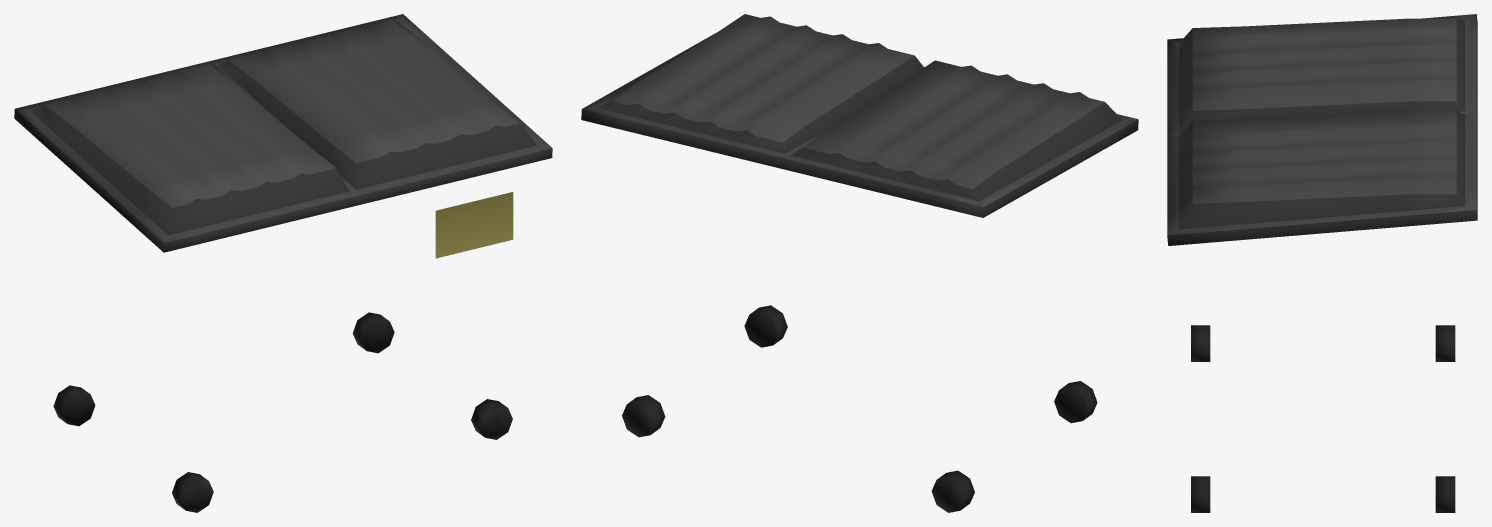
The picture shows the model from 3 angles, left to right: view 1: azimuth 30°, elevation 25°; view 2: azimuth 150°, elevation 25°; view 3: azimuth 270°, elevation 25°; orthographic projection. The views are drawn at different scales.
Parts seen in each view (by area): view 1: base.017; view 2: base.017; view 3: base.017.
Part boxes in pixels (x1,y1,x2,y2): base.017: [14, 14, 552, 512]; base.017: [581, 14, 1138, 512]; base.017: [1167, 14, 1477, 512].
Size of the model in its own units: 0.5 by 0.3973 by 0.3348.
